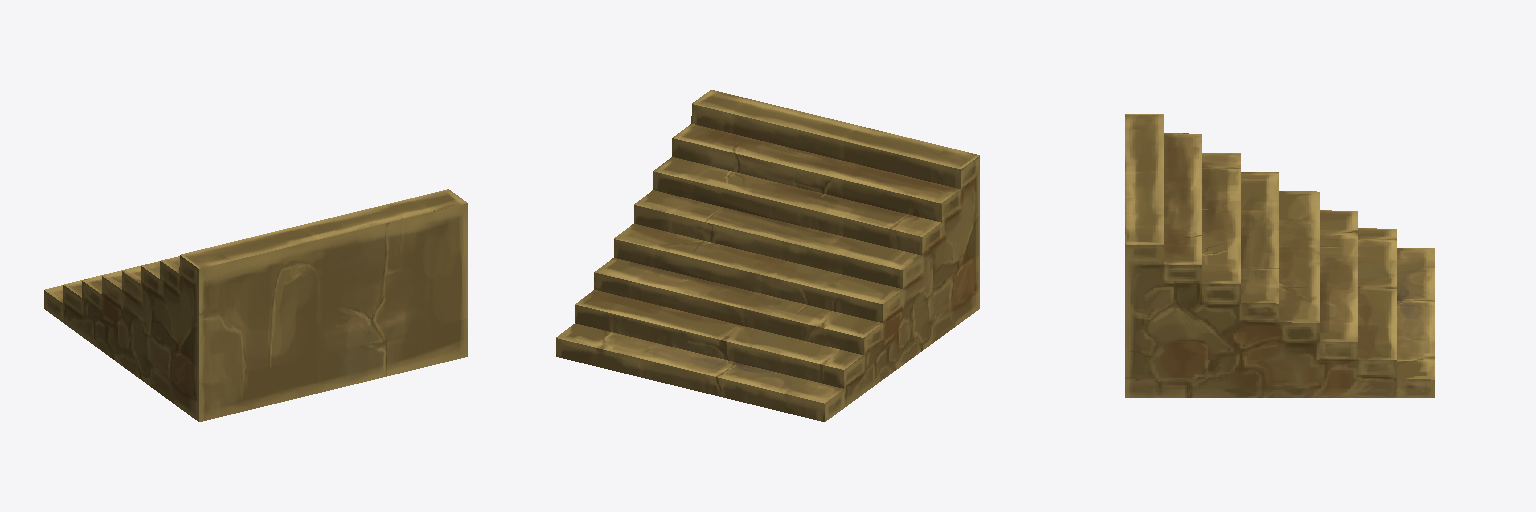
3 renders of one model, left to right at view 1: azimuth 30°, elevation 25°; view 2: azimuth 150°, elevation 25°; view 3: azimuth 270°, elevation 25°, orthographic.
Parts seen in each view (by area): view 1: pCube1; view 2: pCube1; view 3: pCube1.
Part boxes in pixels (bbox=[...]): pCube1: bbox=[44, 189, 467, 421]; pCube1: bbox=[556, 90, 979, 421]; pCube1: bbox=[1125, 114, 1434, 397].
Size of the model in its own units: 2 by 1.09 by 2.
Materials: 1 (1 with a texture image).